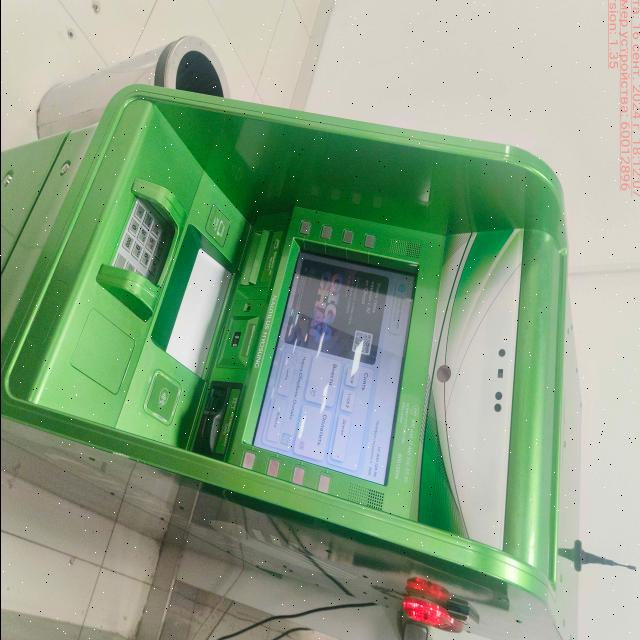bank: (0, 82, 580, 640)
